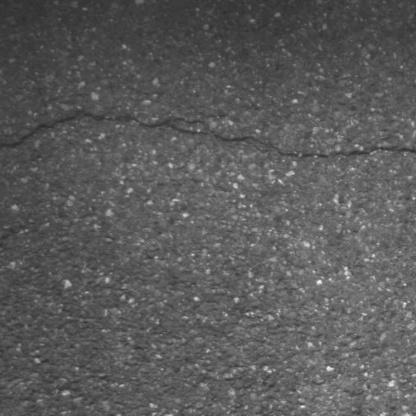Cracks: (0, 105, 416, 164)
